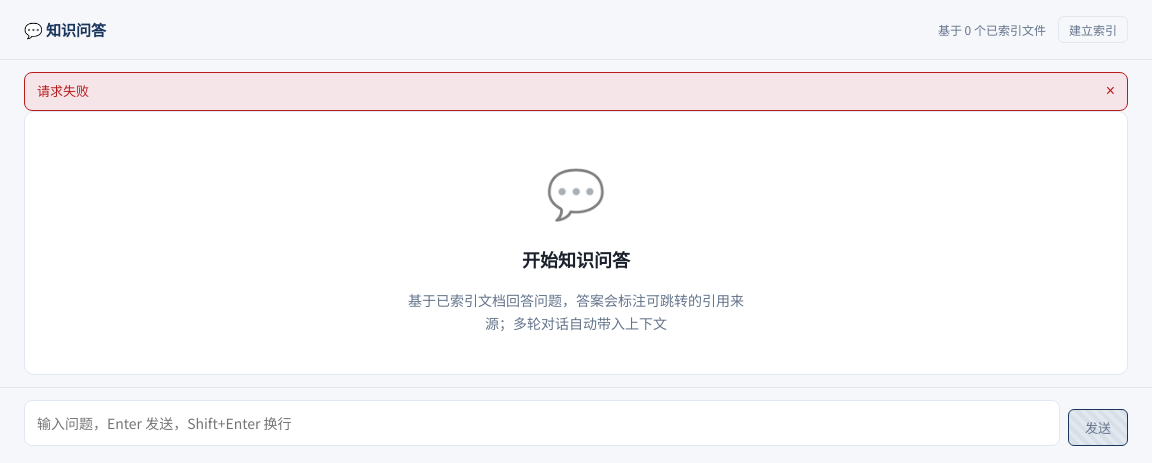
ChatPage › dismisses error alert
The image size is (1152, 463).
Expected: the message shows "请求失败", [37, 81, 89, 100]
Click the button named "关闭错误提示": (1110, 91) [1106, 83, 1115, 99]
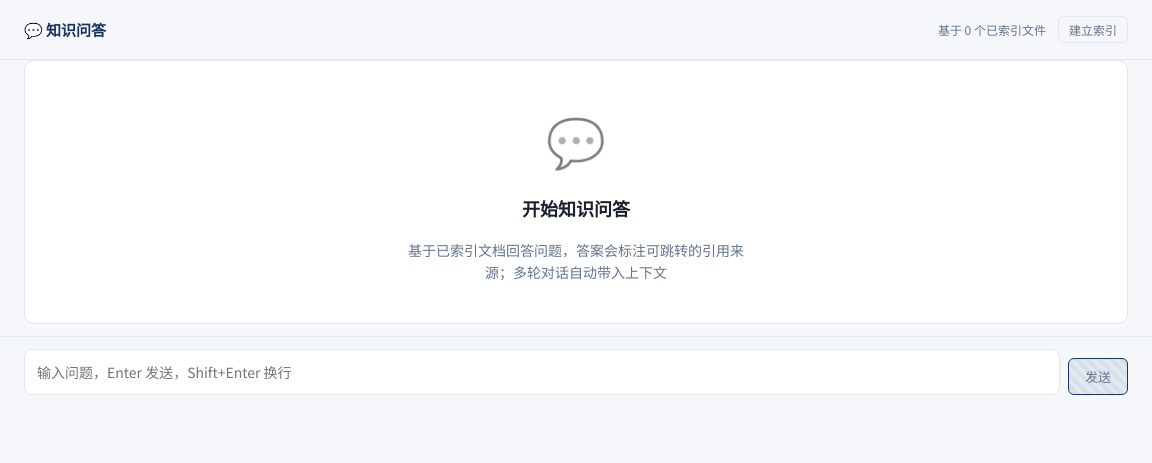
Now the message "请求失败 ×" is gone
